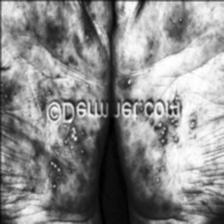Non-Cancerous Skin Condition: (0, 0, 224, 97), (138, 116, 224, 193), (11, 122, 90, 198)
